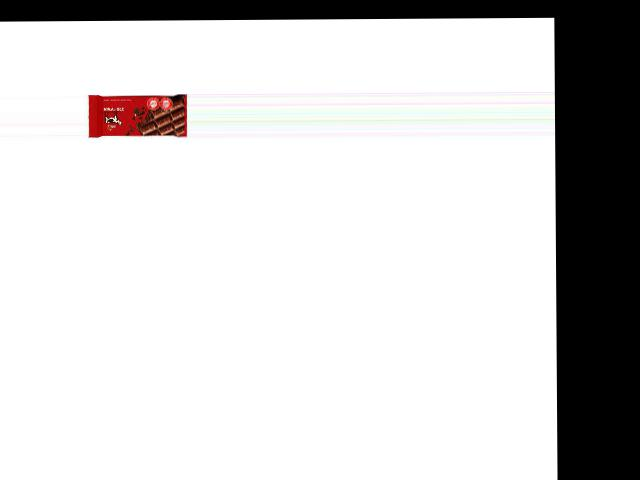chocolate: (86, 93, 187, 137)
